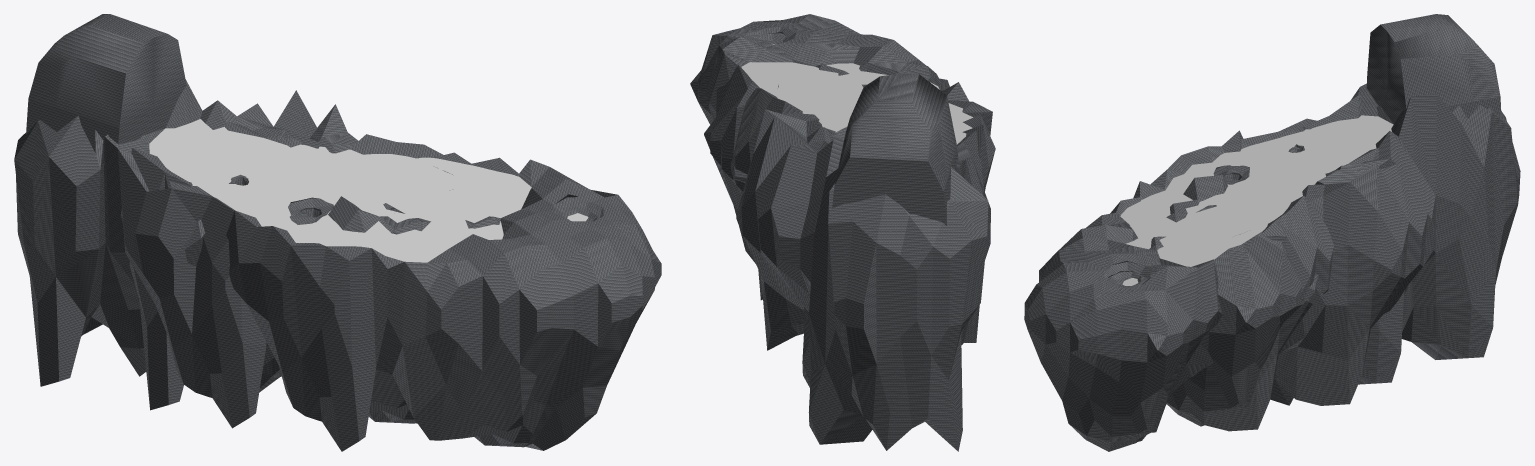
File: Level2Area1GroundV2.fbx
3 renders of one model, left to right at view 1: azimuth 30°, elevation 25°; view 2: azimuth 150°, elevation 25°; view 3: azimuth 270°, elevation 25°, orthographic. The views are drawn at different scales.
Visible parts, largest first — view 1: Landscape.025, Area1GroundV2; view 2: Landscape.025, Area1GroundV2; view 3: Landscape.025, Area1GroundV2.
Part boxes in pixels (x1,y1,x2,y2): Landscape.025: [14, 14, 661, 451]; Area1GroundV2: [149, 119, 588, 262]; Landscape.025: [690, 14, 995, 451]; Area1GroundV2: [741, 44, 973, 144]; Landscape.025: [1024, 14, 1520, 451]; Area1GroundV2: [1120, 115, 1393, 285].
Bounding box in the file's own units: 19318 × 14939 × 20539.
